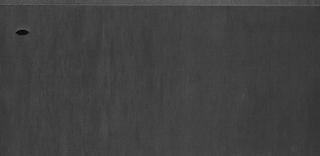punching hole: (16, 27, 34, 36)
welding line: (1, 2, 320, 14)
